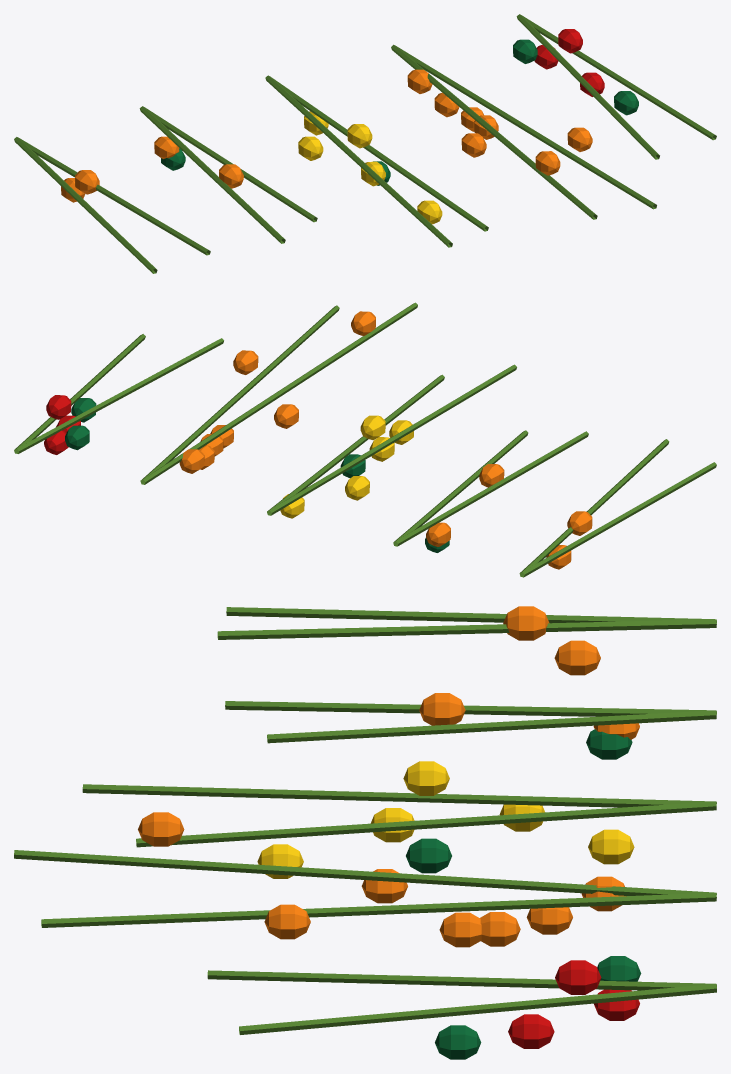
The model's file is r20c0_stems.obj.
The picture shows the model from 3 angles, top to bottom: view 1: azimuth 30°, elevation 25°; view 2: azimuth 150°, elevation 25°; view 3: azimuth 270°, elevation 25°; orthographic projection. The views are drawn at different scales.
Parts seen in each view (by area): view 1: r20c0_stems; view 2: r20c0_stems; view 3: r20c0_stems.
Boxes of the visible parts, x1,y1,x2,y2 form: r20c0_stems: (14, 14, 716, 273); r20c0_stems: (14, 302, 716, 577); r20c0_stems: (14, 606, 716, 1059).
Bounding box in the file's own units: 2.1 × 0.2847 × 1.51.
